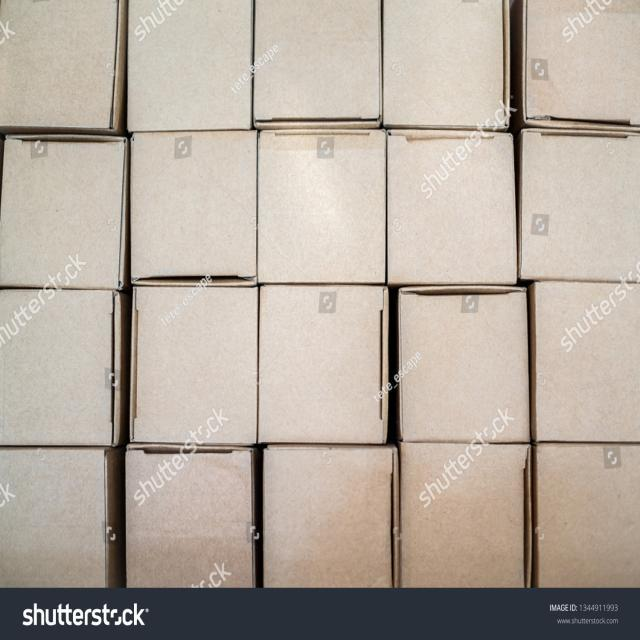BoxFace: (130, 284, 258, 444), (260, 284, 388, 443), (386, 128, 516, 282), (130, 132, 258, 286), (258, 129, 388, 280), (400, 289, 528, 441), (0, 136, 124, 292), (400, 441, 532, 587), (262, 447, 396, 587), (520, 126, 638, 281), (125, 447, 255, 584), (0, 290, 117, 442), (535, 282, 640, 442), (382, 0, 511, 126), (253, 0, 382, 125), (126, 0, 250, 128), (0, 0, 115, 133), (0, 449, 108, 589), (535, 442, 640, 586), (523, 0, 640, 125)
